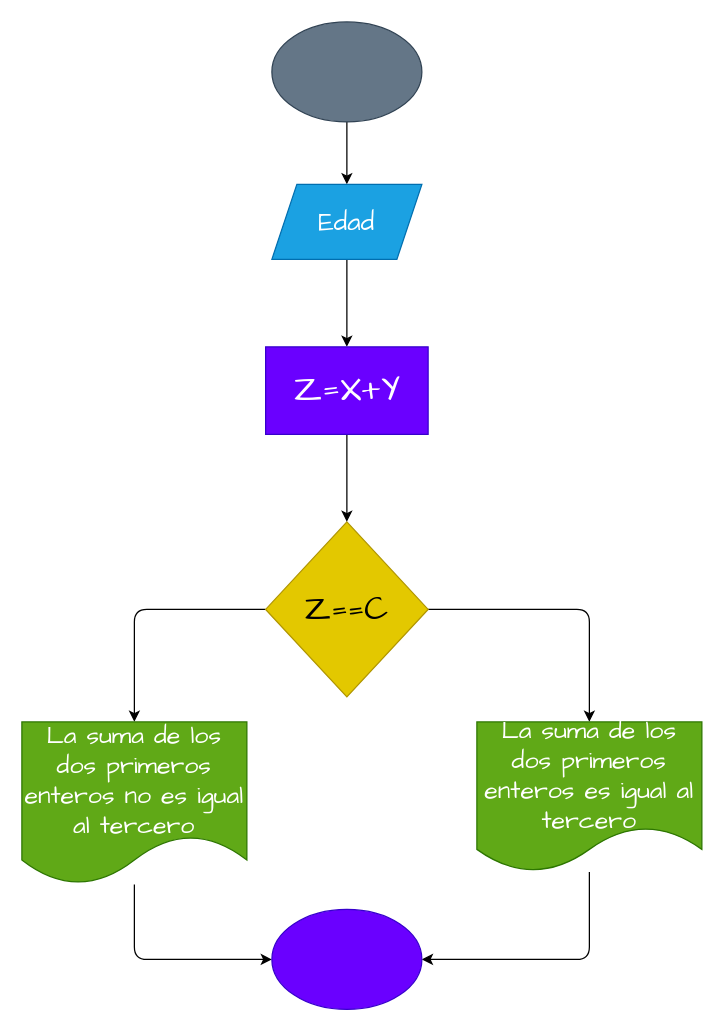
Some shapes in this 724 by 1031 pixel diagram are drawn without their labels. Each missing label, with the centre of its shape:
"Fin" goes at [346,958].
"Inicio" goes at [346,71].
